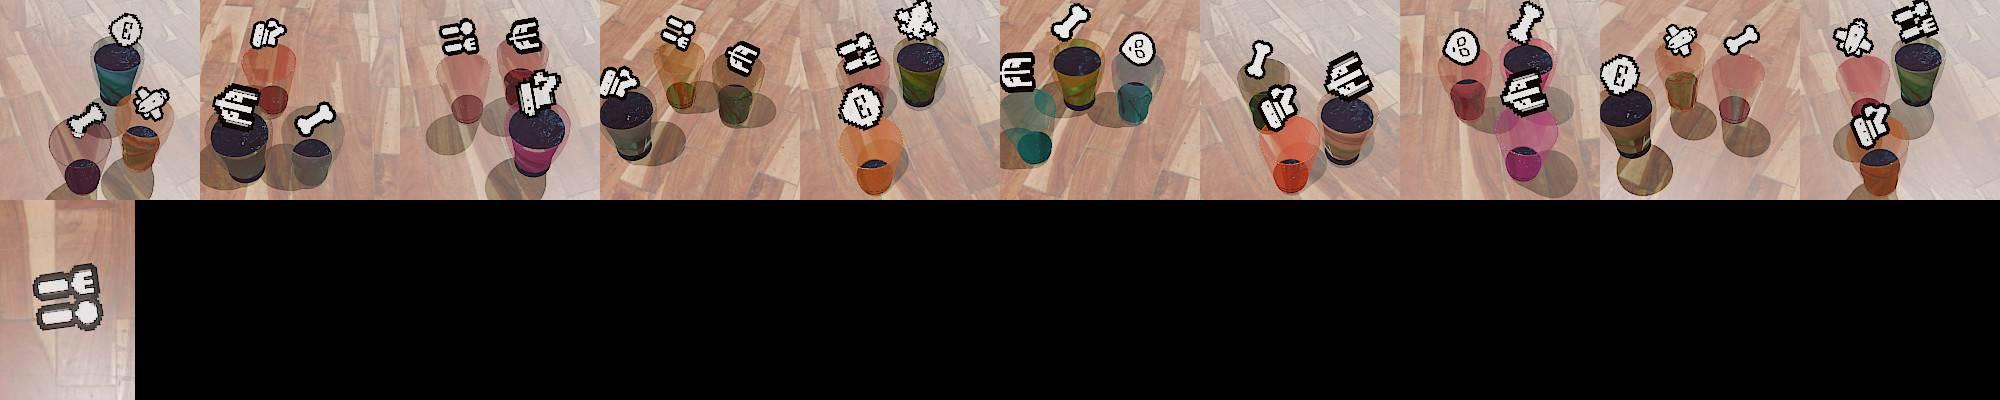icon: (32, 262, 106, 331), (1323, 48, 1372, 99), (212, 84, 263, 130), (517, 69, 562, 118), (837, 84, 885, 130), (1501, 70, 1550, 115), (1892, 0, 1939, 43), (1259, 82, 1301, 130), (1851, 101, 1893, 148), (1598, 54, 1642, 97), (835, 32, 880, 74), (893, 0, 939, 41), (1506, 0, 1546, 47), (293, 99, 338, 138), (1050, 3, 1092, 42), (66, 99, 108, 139), (437, 17, 480, 56), (999, 50, 1037, 93), (1833, 18, 1874, 57), (659, 13, 699, 52), (598, 65, 642, 101), (1441, 27, 1480, 66), (133, 85, 171, 122), (505, 17, 543, 54), (1119, 31, 1157, 68), (724, 41, 761, 78), (249, 17, 288, 51), (1663, 23, 1700, 59), (108, 11, 144, 48), (1722, 22, 1760, 56), (1244, 38, 1274, 80)
